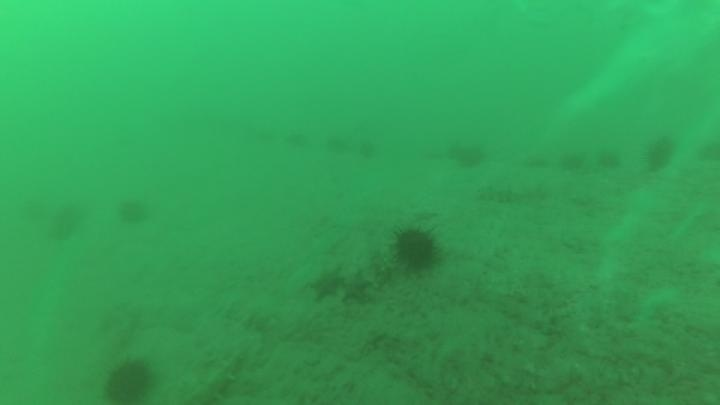echinus: (390, 223, 443, 274), (101, 356, 156, 404), (46, 200, 86, 243), (642, 133, 678, 174), (447, 139, 488, 171), (115, 195, 151, 227), (695, 136, 720, 166), (595, 147, 623, 172), (558, 150, 586, 174), (324, 132, 350, 156), (356, 137, 381, 161), (284, 128, 310, 151)
holothurian: (185, 348, 245, 405), (474, 179, 545, 206)
starfish: (305, 265, 348, 305), (336, 266, 376, 306)
